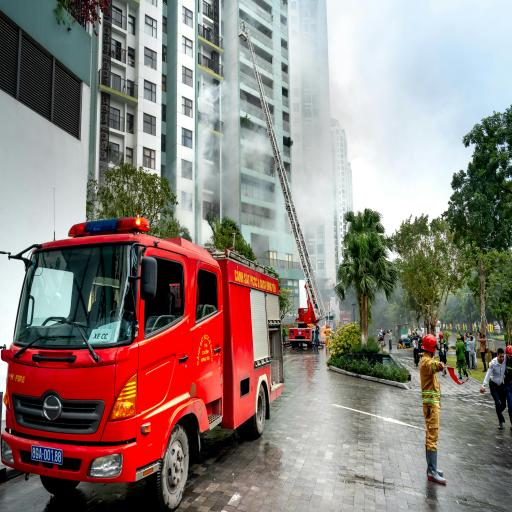smoke: (180, 63, 270, 233)
